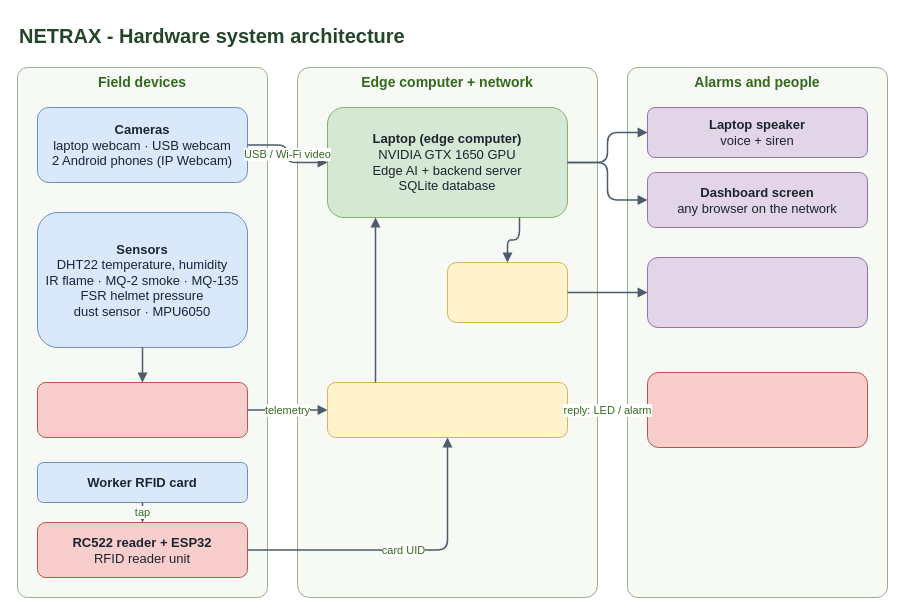
The diagram is 905 pixels wide and 615 high, and some of its shapes have lost their labels. Each missing label, with the centre of its shape:
"ESP32 safety station reads every 1 s" goes at point (142, 410).
"Internet messages only" goes at point (507, 292).
"Station outputs green / orange / red LED buzzer · relay → siren" goes at point (757, 410).
"Supervisor's phone Telegram · e-mail phone call (Twilio)" goes at point (757, 292).
"Wi-Fi router / hotspot HTTP + JSON" goes at point (447, 410).
